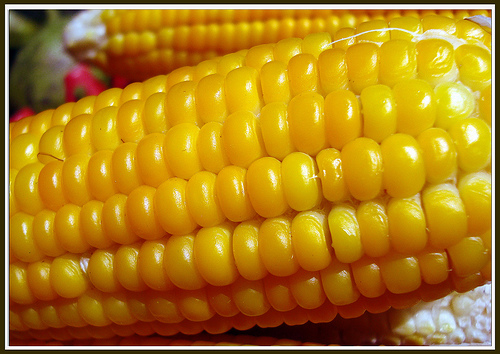corn: (7, 8, 492, 344)
